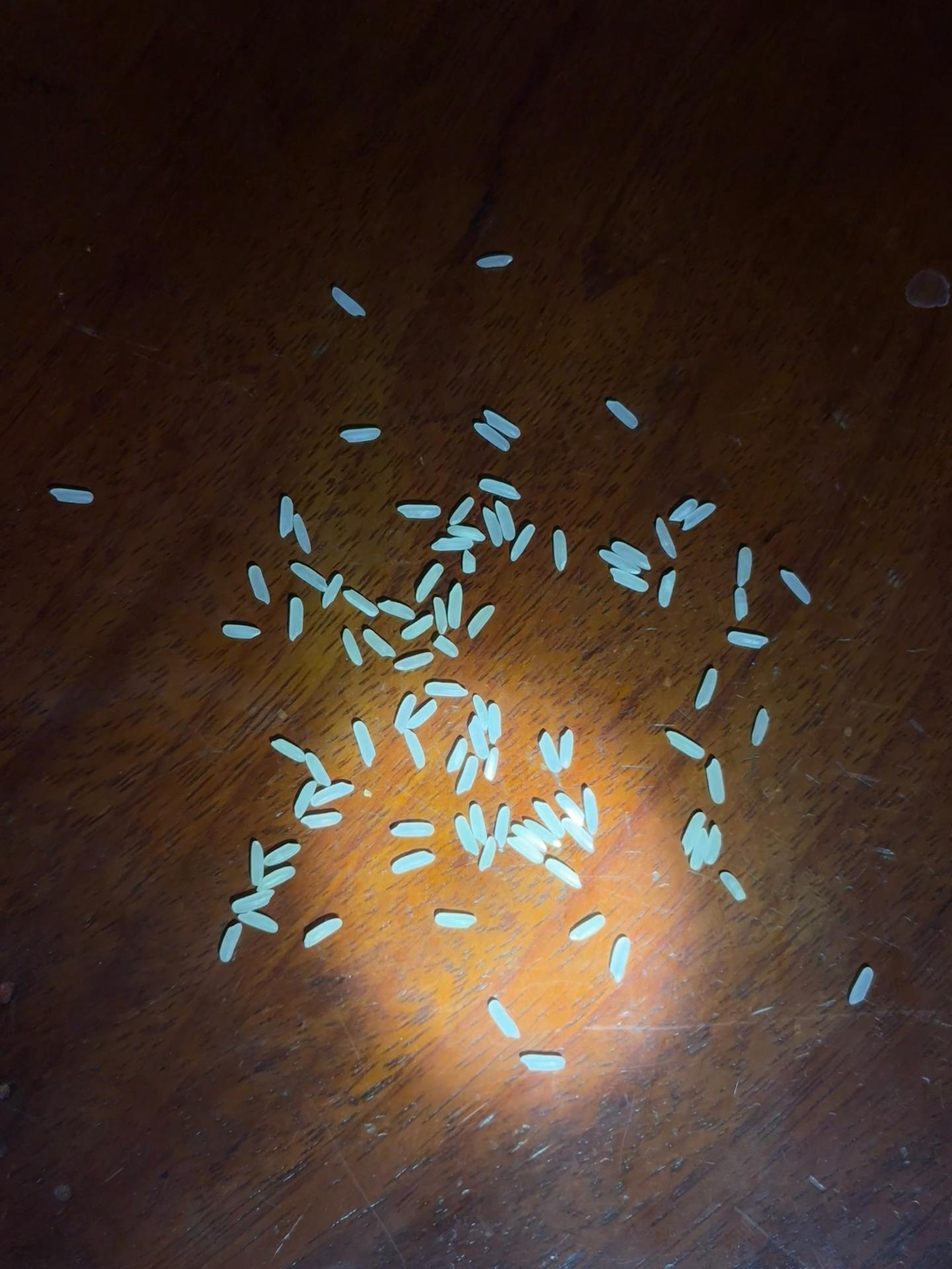Rice-th-y-nh: (487, 1000, 520, 1039), (533, 800, 564, 838), (303, 918, 342, 948), (612, 541, 651, 570), (562, 818, 594, 853), (545, 859, 582, 889), (780, 570, 812, 604), (507, 835, 543, 865), (352, 721, 376, 766), (474, 422, 511, 451), (291, 563, 328, 592), (523, 819, 560, 848), (667, 731, 705, 759), (416, 563, 443, 602), (218, 922, 244, 962), (467, 715, 490, 760), (332, 287, 366, 317), (555, 793, 585, 827), (231, 890, 275, 913), (484, 410, 520, 438), (681, 812, 705, 854), (454, 816, 479, 856), (392, 851, 435, 874), (682, 502, 716, 531), (311, 783, 353, 806), (695, 669, 719, 709), (599, 550, 639, 574), (606, 399, 639, 428), (510, 524, 535, 562), (305, 752, 332, 787), (238, 911, 279, 934), (456, 756, 480, 795), (609, 568, 648, 592), (363, 629, 395, 658), (849, 968, 874, 1005), (467, 605, 495, 638), (654, 518, 677, 558), (257, 866, 295, 890), (343, 590, 378, 616), (570, 915, 605, 941), (610, 938, 630, 983), (539, 734, 562, 773), (515, 824, 547, 852), (582, 787, 601, 834), (293, 781, 317, 818), (276, 496, 297, 538), (263, 843, 301, 866), (407, 700, 437, 729), (404, 729, 426, 768), (394, 694, 416, 733), (248, 565, 270, 603), (706, 759, 725, 803), (401, 615, 434, 640), (495, 501, 516, 540), (493, 806, 512, 849), (469, 804, 489, 844), (50, 487, 94, 505), (480, 480, 521, 499), (690, 830, 709, 871), (391, 821, 434, 839), (248, 840, 265, 885), (483, 508, 503, 546), (395, 652, 433, 672), (272, 739, 305, 762), (342, 629, 363, 665), (720, 872, 746, 901), (521, 1054, 565, 1071), (704, 826, 723, 865), (378, 600, 415, 620), (486, 703, 504, 744), (447, 739, 468, 774), (449, 497, 474, 526), (293, 515, 312, 553), (447, 584, 463, 628), (478, 836, 498, 871), (322, 575, 343, 608), (288, 597, 304, 640), (425, 682, 468, 698), (752, 709, 770, 746), (736, 547, 753, 586), (302, 812, 341, 829), (435, 913, 476, 929), (658, 571, 676, 607), (558, 730, 575, 768), (552, 530, 568, 570), (432, 537, 474, 552), (472, 694, 490, 729), (448, 525, 485, 542), (728, 632, 767, 648), (670, 499, 697, 522), (398, 505, 440, 519), (432, 597, 448, 633), (433, 635, 458, 657), (484, 747, 500, 781), (223, 625, 260, 639), (341, 429, 380, 442), (733, 587, 748, 620), (477, 255, 513, 267), (461, 550, 477, 573)
